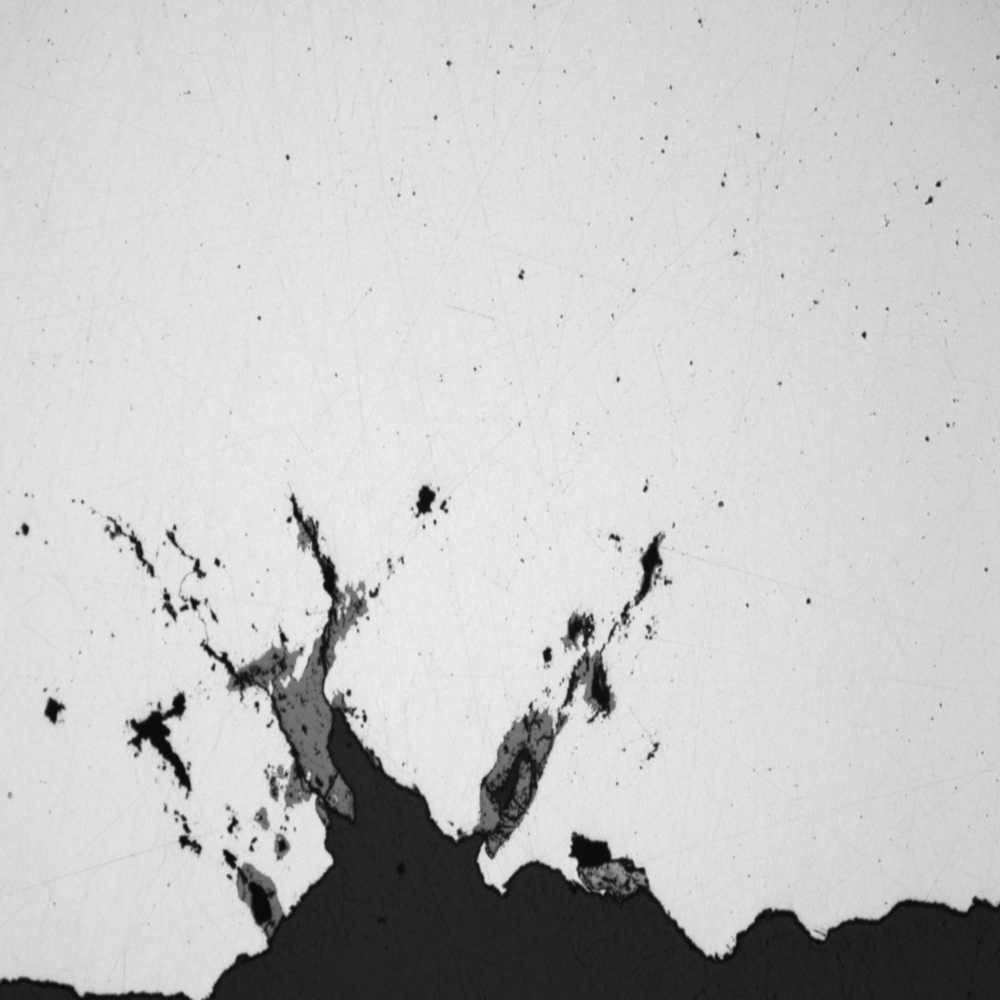crack: (49, 477, 709, 915)
